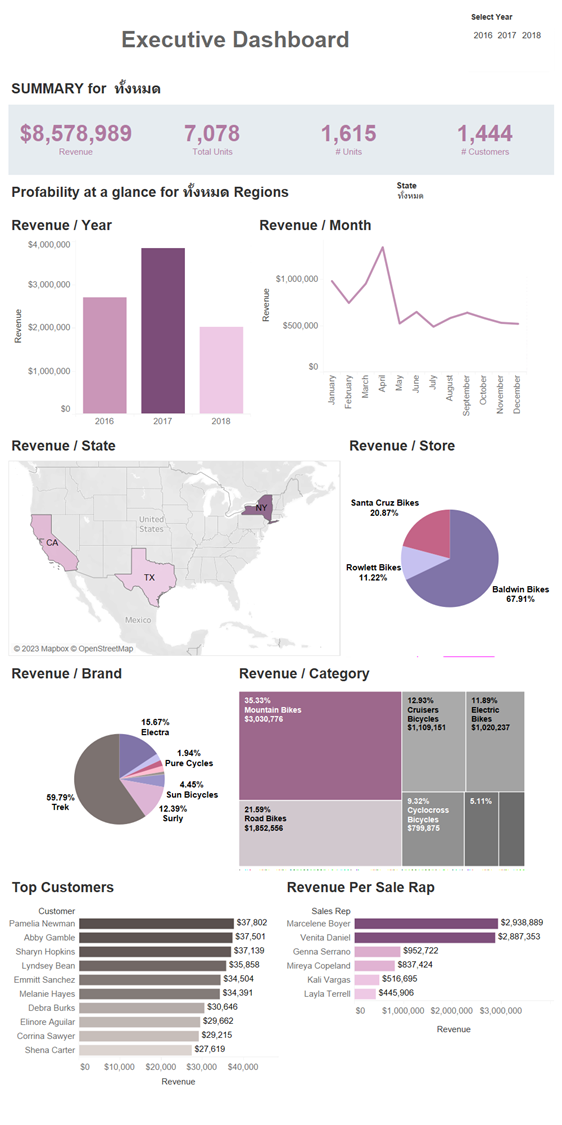

What the dashboard file says about the page in this screenshot:
{"tool":"tableau","page":{"name":"แดชบอร์ด 1","canvas":[800,1600],"ordinal":0},"visuals":[{"type":"text","box":[8,8,654,97]},{"type":"worksheet","title":"Year","mark":"Automatic","box":[662,8,130,97]},{"type":"worksheet","title":"Banner","mark":"Automatic","box":[8,105,784,147]},{"type":"worksheet","title":"title","mark":"Automatic","box":[8,252,552,47]},{"type":"filter","title":"Revenue / State","param":"[federated.11wqu4f00tfibr1bbmuuo1sq1j4t].[none:state:nk]","box":[560,252,200,47]},{"type":"worksheet","title":"Revenue / Year","mark":"Bar","rows":["Revenue"],"cols":["order_date"],"box":[8,299,353,314]},{"type":"worksheet","title":"Revenue / Month","mark":"Automatic","rows":["Revenue"],"cols":["order_date"],"box":[361,299,392,314]},{"type":"worksheet","title":"Revenue / State","mark":"Multipolygon","box":[8,613,481,324]},{"type":"worksheet","title":"Revenue / Store","mark":"Pie","box":[489,613,303,324]},{"type":"worksheet","title":"Revenue / Brand","mark":"Pie","box":[8,937,324,304]},{"type":"worksheet","title":"Revenue / Category","mark":"Automatic","box":[332,937,460,304]},{"type":"worksheet","title":"Top Customers","mark":"Automatic","rows":["customer"],"cols":["Revenue"],"box":[8,1241,392,315]},{"type":"worksheet","title":"Revenue /  Sale Rap","mark":"Automatic","rows":["sales_rep"],"cols":["Revenue"],"box":[400,1241,392,315]}]}

Visuals, with their boxes in screenshot pixels (x1, y1, x2, y2), scaled from the page's 800x1600 canvas onto the 562x1125 screenshot:
text: select_region(6, 6, 465, 74)
"Year" worksheet: select_region(465, 6, 556, 74)
"Banner" worksheet: select_region(6, 74, 556, 177)
"title" worksheet: select_region(6, 177, 393, 210)
"Revenue / State" filter: select_region(393, 177, 534, 210)
"Revenue / Year" worksheet (Bar marks): select_region(6, 210, 254, 431)
"Revenue / Month" worksheet: select_region(254, 210, 529, 431)
"Revenue / State" worksheet (Multipolygon marks): select_region(6, 431, 344, 659)
"Revenue / Store" worksheet (Pie marks): select_region(344, 431, 556, 659)
"Revenue / Brand" worksheet (Pie marks): select_region(6, 659, 233, 873)
"Revenue / Category" worksheet: select_region(233, 659, 556, 873)
"Top Customers" worksheet: select_region(6, 873, 281, 1094)
"Revenue /  Sale Rap" worksheet: select_region(281, 873, 556, 1094)
